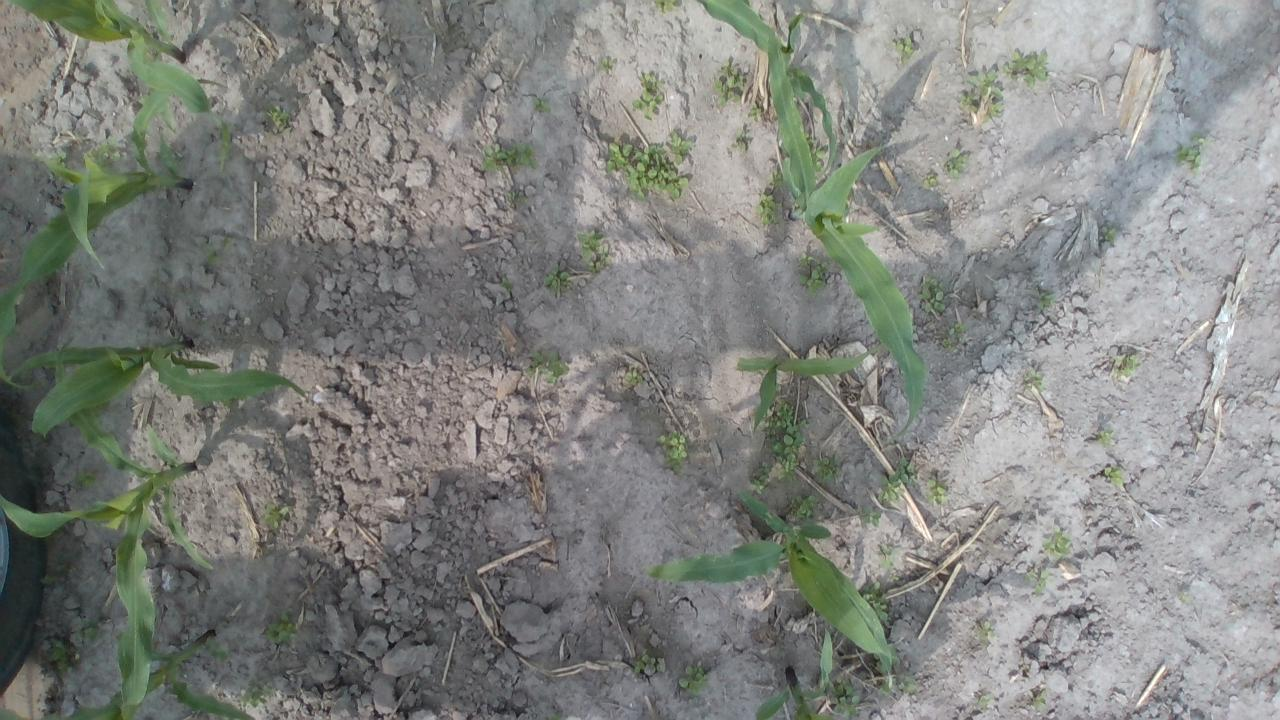Maize: (0, 358, 208, 720), (0, 75, 236, 392), (754, 13, 929, 439), (646, 490, 899, 692), (0, 0, 233, 176), (0, 338, 304, 438), (692, 0, 841, 175), (0, 630, 264, 720), (734, 349, 883, 427), (751, 624, 834, 720)
Weeds: (604, 139, 688, 201), (764, 401, 808, 484), (956, 69, 1006, 123), (878, 454, 918, 503), (524, 346, 569, 384), (795, 250, 830, 298), (1003, 48, 1047, 86), (479, 142, 538, 170), (632, 71, 665, 121), (656, 429, 692, 473), (714, 59, 746, 104), (1175, 132, 1209, 174), (859, 578, 890, 624), (826, 675, 859, 718), (916, 274, 949, 316), (38, 551, 78, 584), (236, 676, 274, 708), (1039, 523, 1073, 558), (48, 640, 83, 674), (676, 661, 710, 696), (812, 450, 845, 483), (264, 612, 298, 644), (632, 647, 664, 678), (787, 489, 817, 522), (802, 132, 826, 173), (755, 192, 782, 227), (88, 137, 120, 166), (749, 460, 774, 496), (542, 263, 571, 294), (888, 34, 916, 66), (664, 132, 692, 163), (265, 103, 293, 133), (261, 502, 290, 530), (74, 618, 104, 644), (577, 229, 603, 258), (72, 466, 104, 489), (944, 149, 968, 179), (1023, 568, 1049, 595), (874, 647, 900, 672), (859, 503, 884, 528), (1023, 368, 1047, 394), (925, 478, 948, 505), (728, 128, 750, 156), (974, 618, 996, 646), (1114, 354, 1139, 378), (876, 542, 896, 570), (586, 250, 610, 272), (200, 241, 220, 267), (1098, 222, 1118, 246), (528, 96, 552, 115), (48, 150, 70, 170), (1104, 464, 1124, 486), (1036, 288, 1056, 310), (766, 170, 788, 188), (748, 100, 764, 124), (650, 0, 678, 13), (897, 675, 917, 693), (948, 321, 968, 339), (1031, 689, 1047, 711), (878, 674, 894, 694), (624, 368, 642, 385), (1096, 428, 1114, 445), (921, 172, 940, 188), (508, 188, 528, 202), (500, 276, 514, 294), (219, 234, 235, 248), (938, 338, 955, 351), (599, 57, 614, 71), (978, 694, 995, 706), (1177, 590, 1190, 604), (148, 46, 160, 61), (547, 713, 564, 720), (889, 573, 900, 582)
